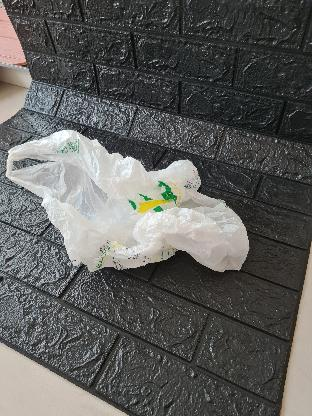Plastic Bag: (5, 128, 250, 274)
